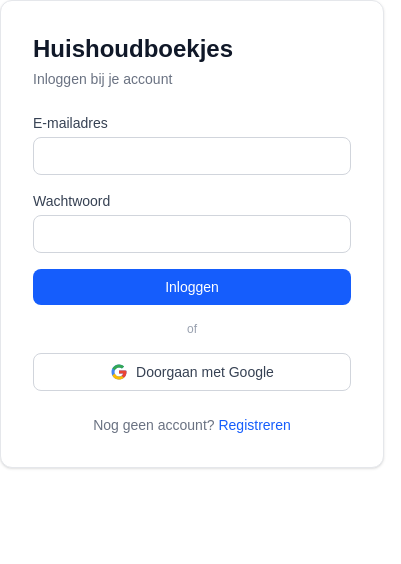
LoginForm › mode toggle › shows the name field after clicking "Registreren"
The width and height of the screenshot is (401, 564).
Click the button "Registreren" at {"x": 255, "y": 425}, box [218,415,291,435]
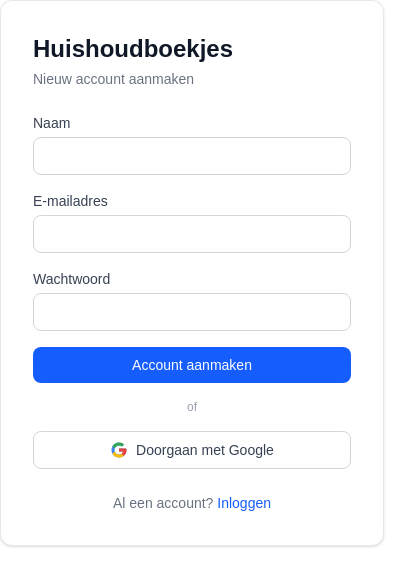
Expected: the text "Naam" is shown, [33,115,70,131]
